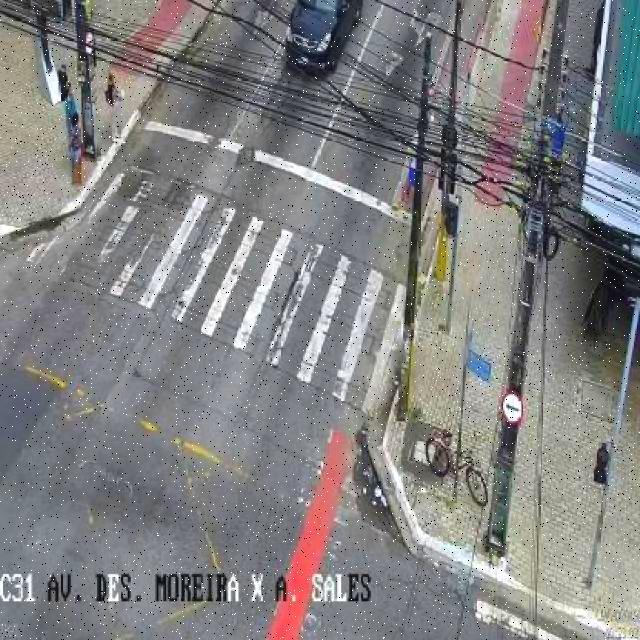Car: (276, 5, 352, 80)
Cycle: (415, 426, 494, 516)
